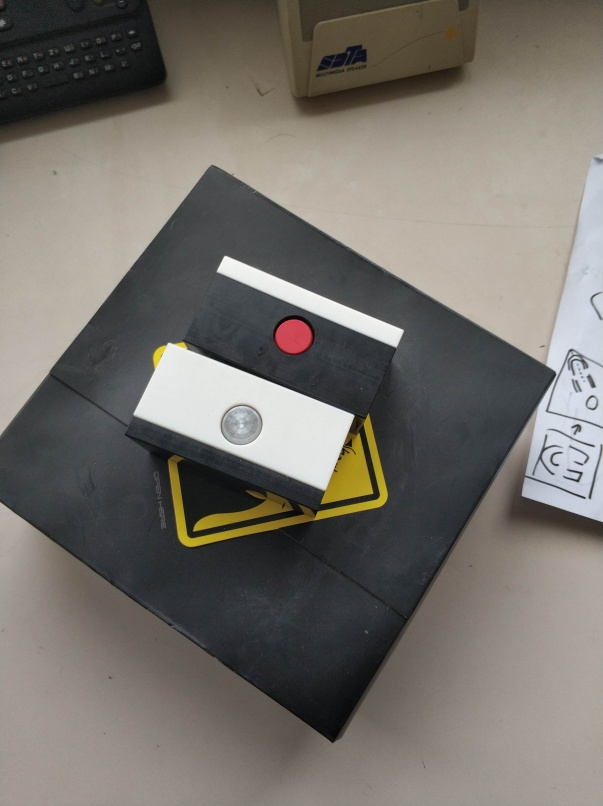black+white+silver: (120, 343, 359, 523)
white+black+red: (183, 253, 409, 433)
